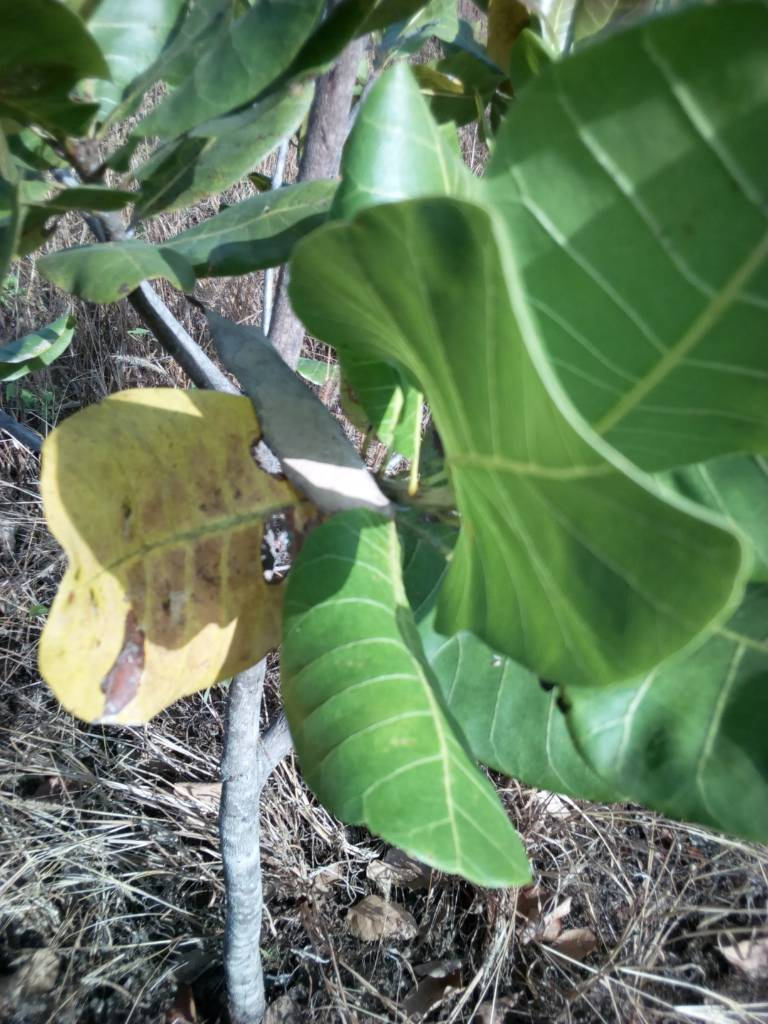Bactériose: (38, 389, 283, 725)
